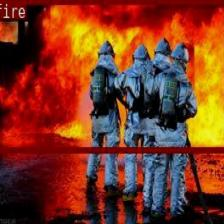fire: (0, 0, 224, 151)
